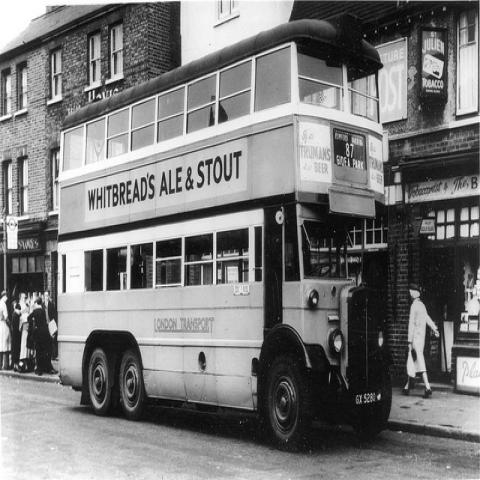bus: (56, 18, 388, 404)
